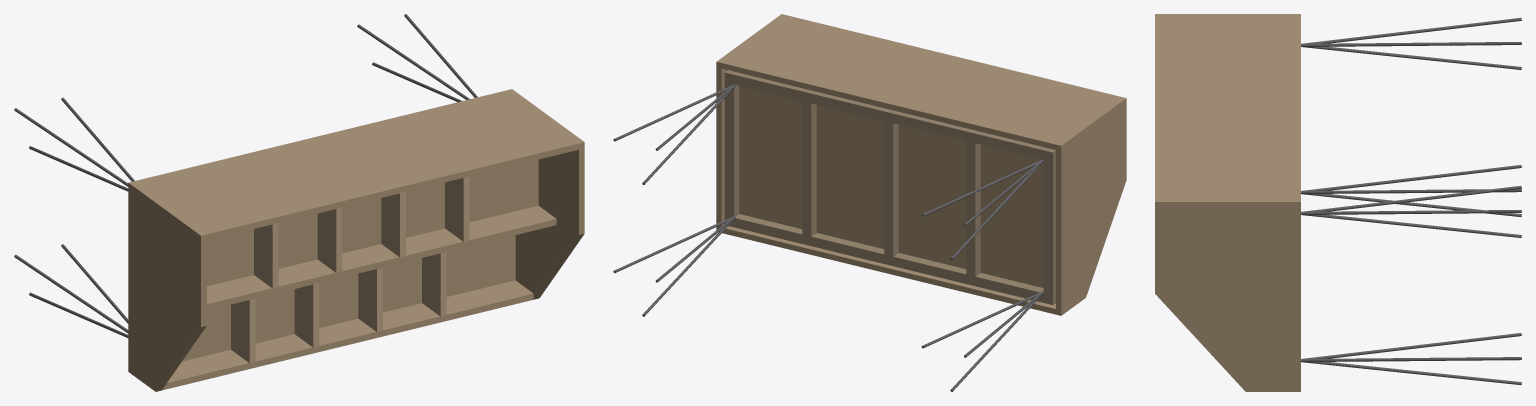
File: vinyl_record_storage.glb
3 views of the same model, side by side, from view 1: azimuth 30°, elevation 25°; view 2: azimuth 150°, elevation 25°; view 3: azimuth 270°, elevation 25° (orthographic). The views are drawn at different scales.
Visible parts, largest first — view 1: back, side_left, back_shelf_bottom, bottom, front, shelf_divider, side_right, back_divider_2, front_divider_2, back_divider_1, back_divider_4, back_divider_3 (+6 smaller); view 2: bottom, back, side_left, frame_front, frame_back, front, frame_right, frame_left, frame_cross_2, frame_cross_3, frame_cross_1, side_right (+4 smaller); view 3: back, side_right, leg_front_right, leg_back_left, leg_back_right, leg_front_left, side_left.
Boxes of the visible parts, x1,y1,x2,y2 form: back: (134, 90, 578, 240); side_left: (128, 181, 206, 391); back_shelf_bottom: (207, 159, 538, 286); bottom: (182, 235, 515, 361); front: (162, 280, 533, 390); shelf_divider: (207, 205, 556, 310); side_right: (506, 89, 584, 299); back_divider_2: (317, 207, 342, 272); front_divider_2: (294, 283, 319, 347); back_divider_1: (254, 223, 278, 288); back_divider_4: (445, 176, 469, 241); back_divider_3: (381, 192, 405, 257); bottom: (727, 70, 1055, 303); back: (721, 15, 1120, 149); side_left: (1056, 97, 1126, 315); frame_front: (734, 214, 1043, 302); frame_back: (734, 72, 1046, 159); front: (722, 226, 1055, 314); frame_right: (724, 70, 739, 227); frame_left: (1043, 148, 1055, 304); frame_cross_2: (884, 121, 898, 256); frame_cross_3: (802, 101, 816, 236); frame_cross_1: (966, 141, 980, 276); side_right: (716, 14, 786, 229); back: (1155, 17, 1300, 198); side_right: (1155, 199, 1300, 391); leg_front_right: (1301, 333, 1521, 385); leg_back_left: (1301, 17, 1521, 69); leg_back_right: (1301, 186, 1521, 237); leg_front_left: (1301, 165, 1521, 217); side_left: (1155, 14, 1300, 16).
Size of the model in its own units: 57.78 by 27.6 by 46.53.
